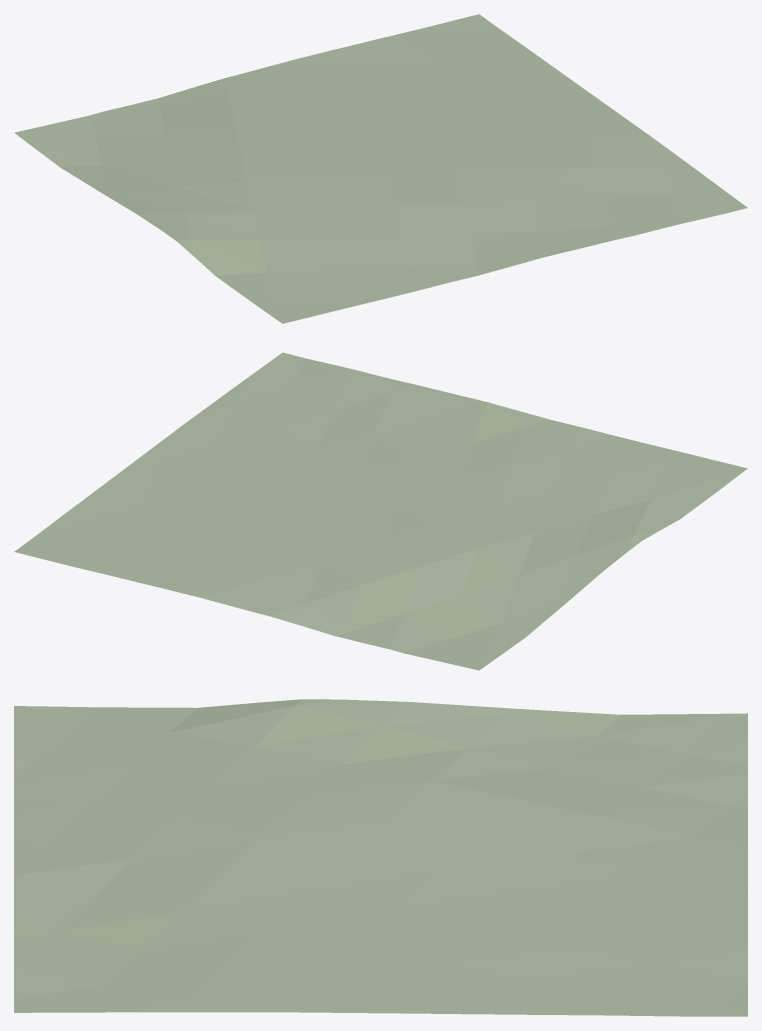
The model's file is SM_MPRR_Terrain_1_2.fbx.
3 views of the same model, one above another, from view 1: azimuth 30°, elevation 25°; view 2: azimuth 150°, elevation 25°; view 3: azimuth 270°, elevation 25° (orthographic). The views are drawn at different scales.
Visible parts, largest first — view 1: SM_MPRR_Terrain_1_2; view 2: SM_MPRR_Terrain_1_2; view 3: SM_MPRR_Terrain_1_2.
Boxes of the visible parts, x1,y1,x2,y2 form: SM_MPRR_Terrain_1_2: (14,14,747,323); SM_MPRR_Terrain_1_2: (14,352,747,670); SM_MPRR_Terrain_1_2: (14,699,747,1016).
Bounding box in the file's own units: 15000 × 15000 × 383.
